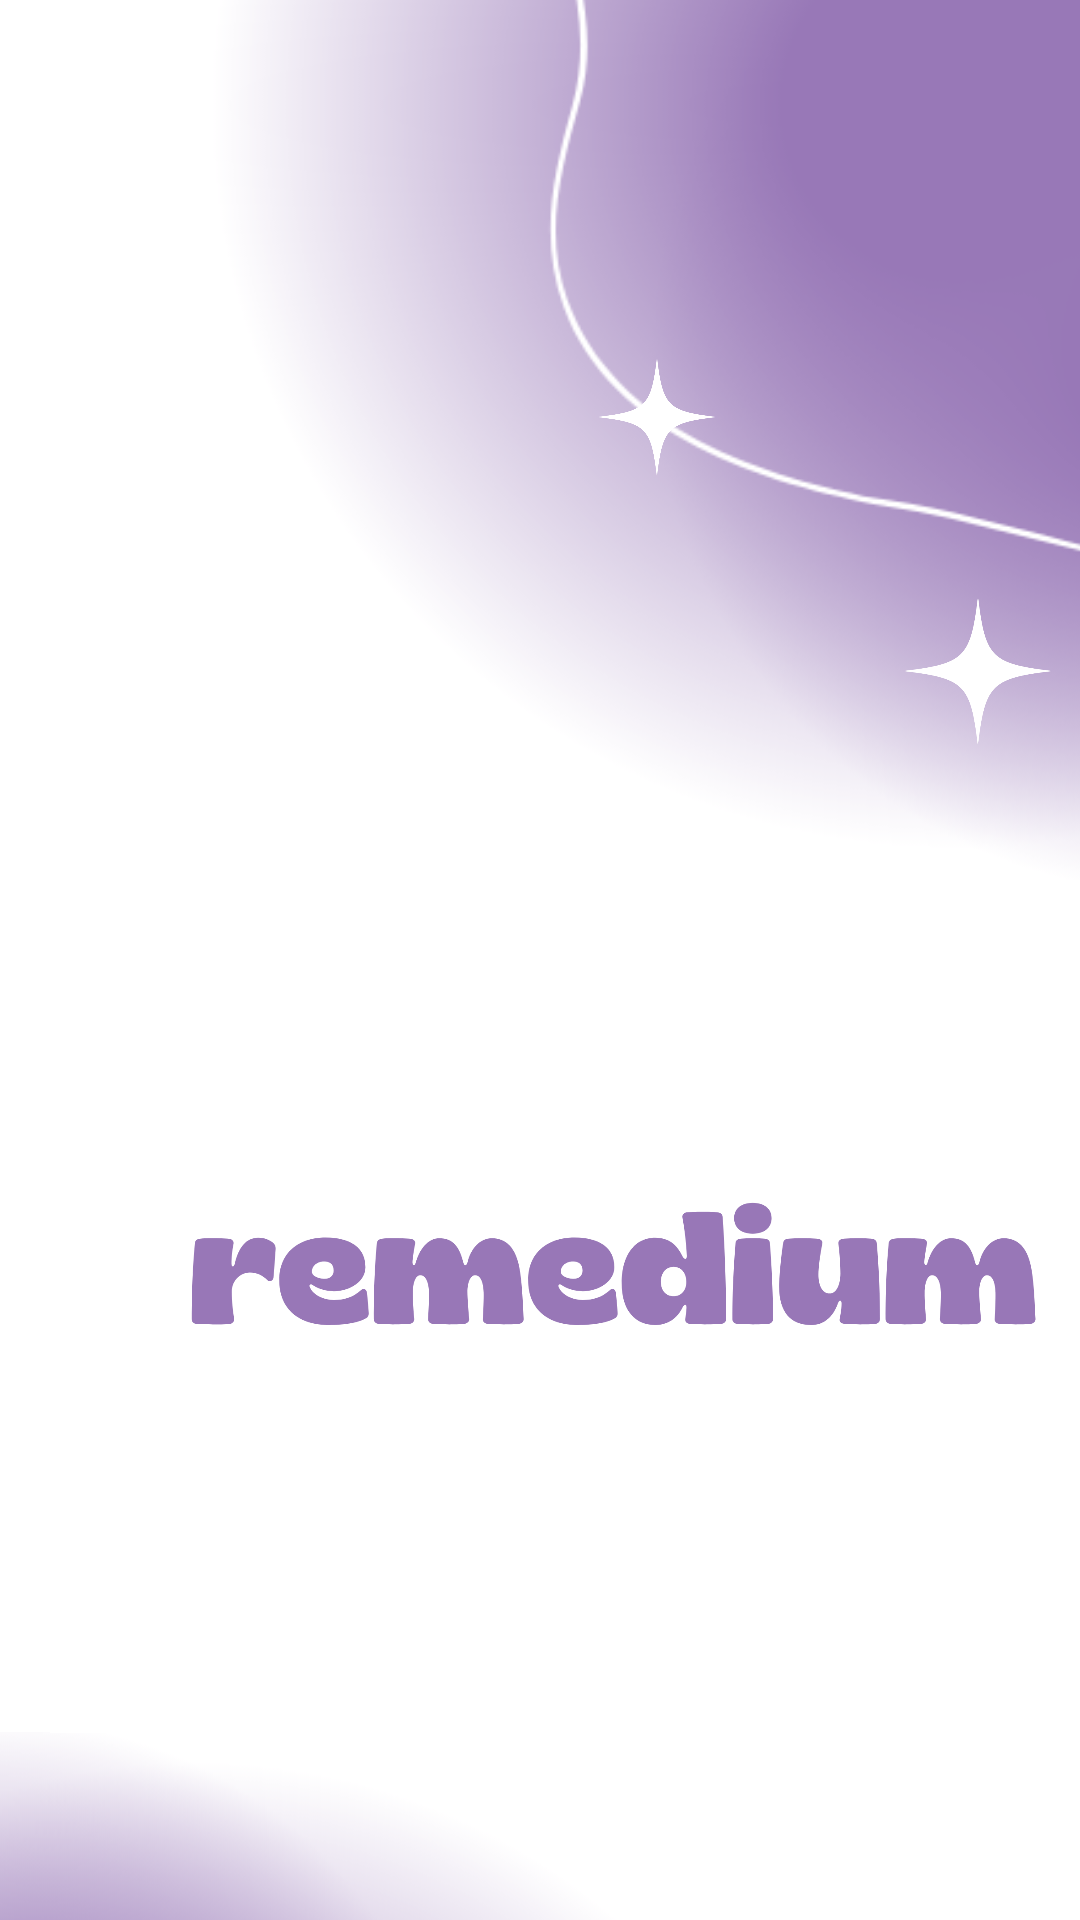

Where to tap for icons on this 1080*1920 app screen, as (x,y):
destello: (657,415), (978,671)
